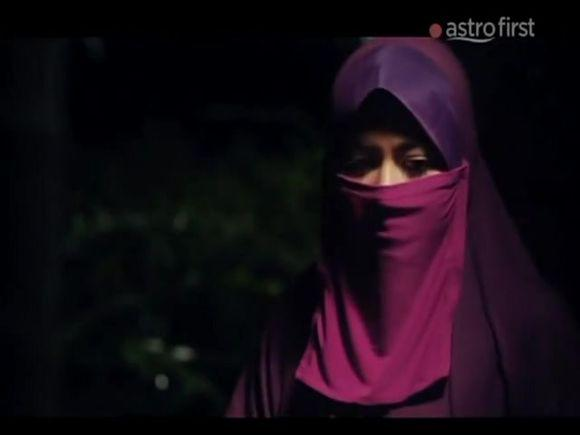OK: (342, 132, 463, 253)
